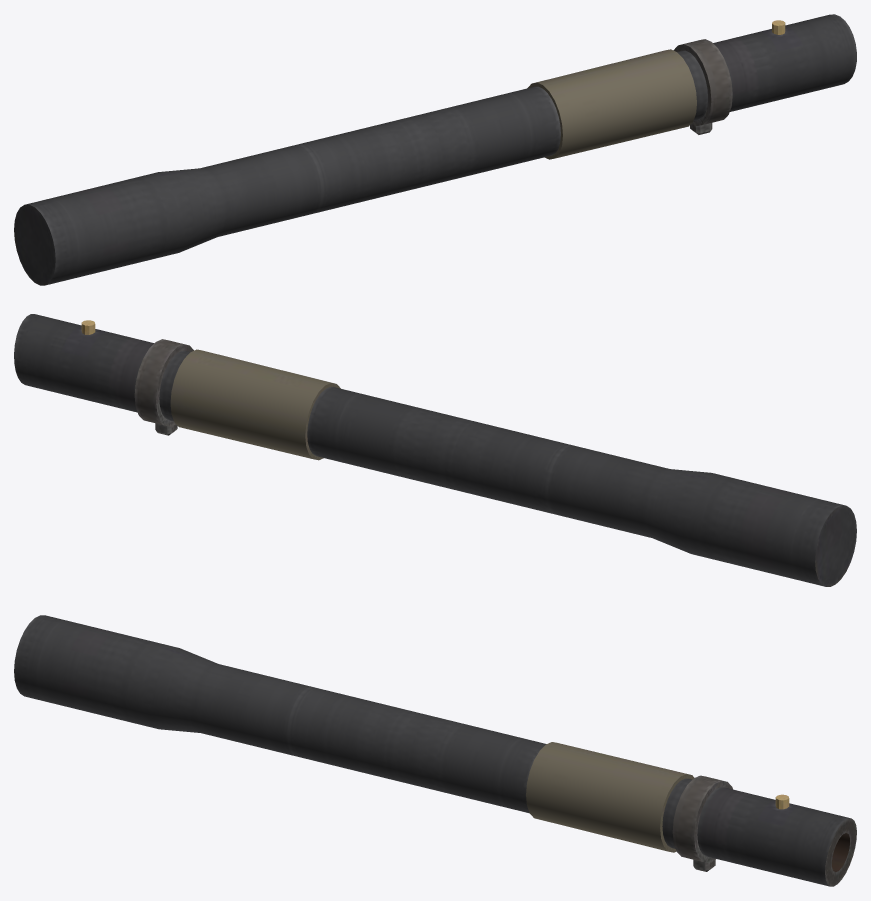
Rendered from sawn_stub.glb.
3 renders of one model, top to bottom at view 1: azimuth 30°, elevation 25°; view 2: azimuth 150°, elevation 25°; view 3: azimuth 330°, elevation 25°, orthographic.
Visible parts, largest first — view 1: sawn_stub; view 2: sawn_stub; view 3: sawn_stub.
Boxes of the visible parts, box(x1,y1,x2,y2) form: sawn_stub: box(14, 14, 856, 285); sawn_stub: box(14, 314, 856, 586); sawn_stub: box(14, 615, 856, 886).
Bounding box in the file's own units: 0.3012 × 0.032 × 0.0272.
1 material, 1 textured.
